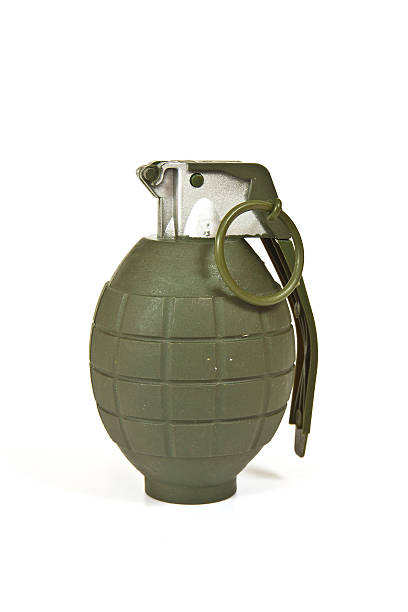e1: (92, 160, 319, 505)
